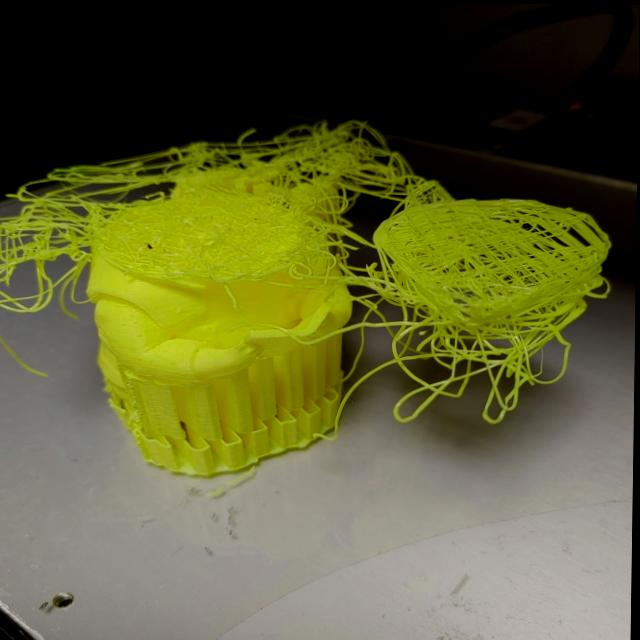spaghetti: (0, 122, 639, 433)
